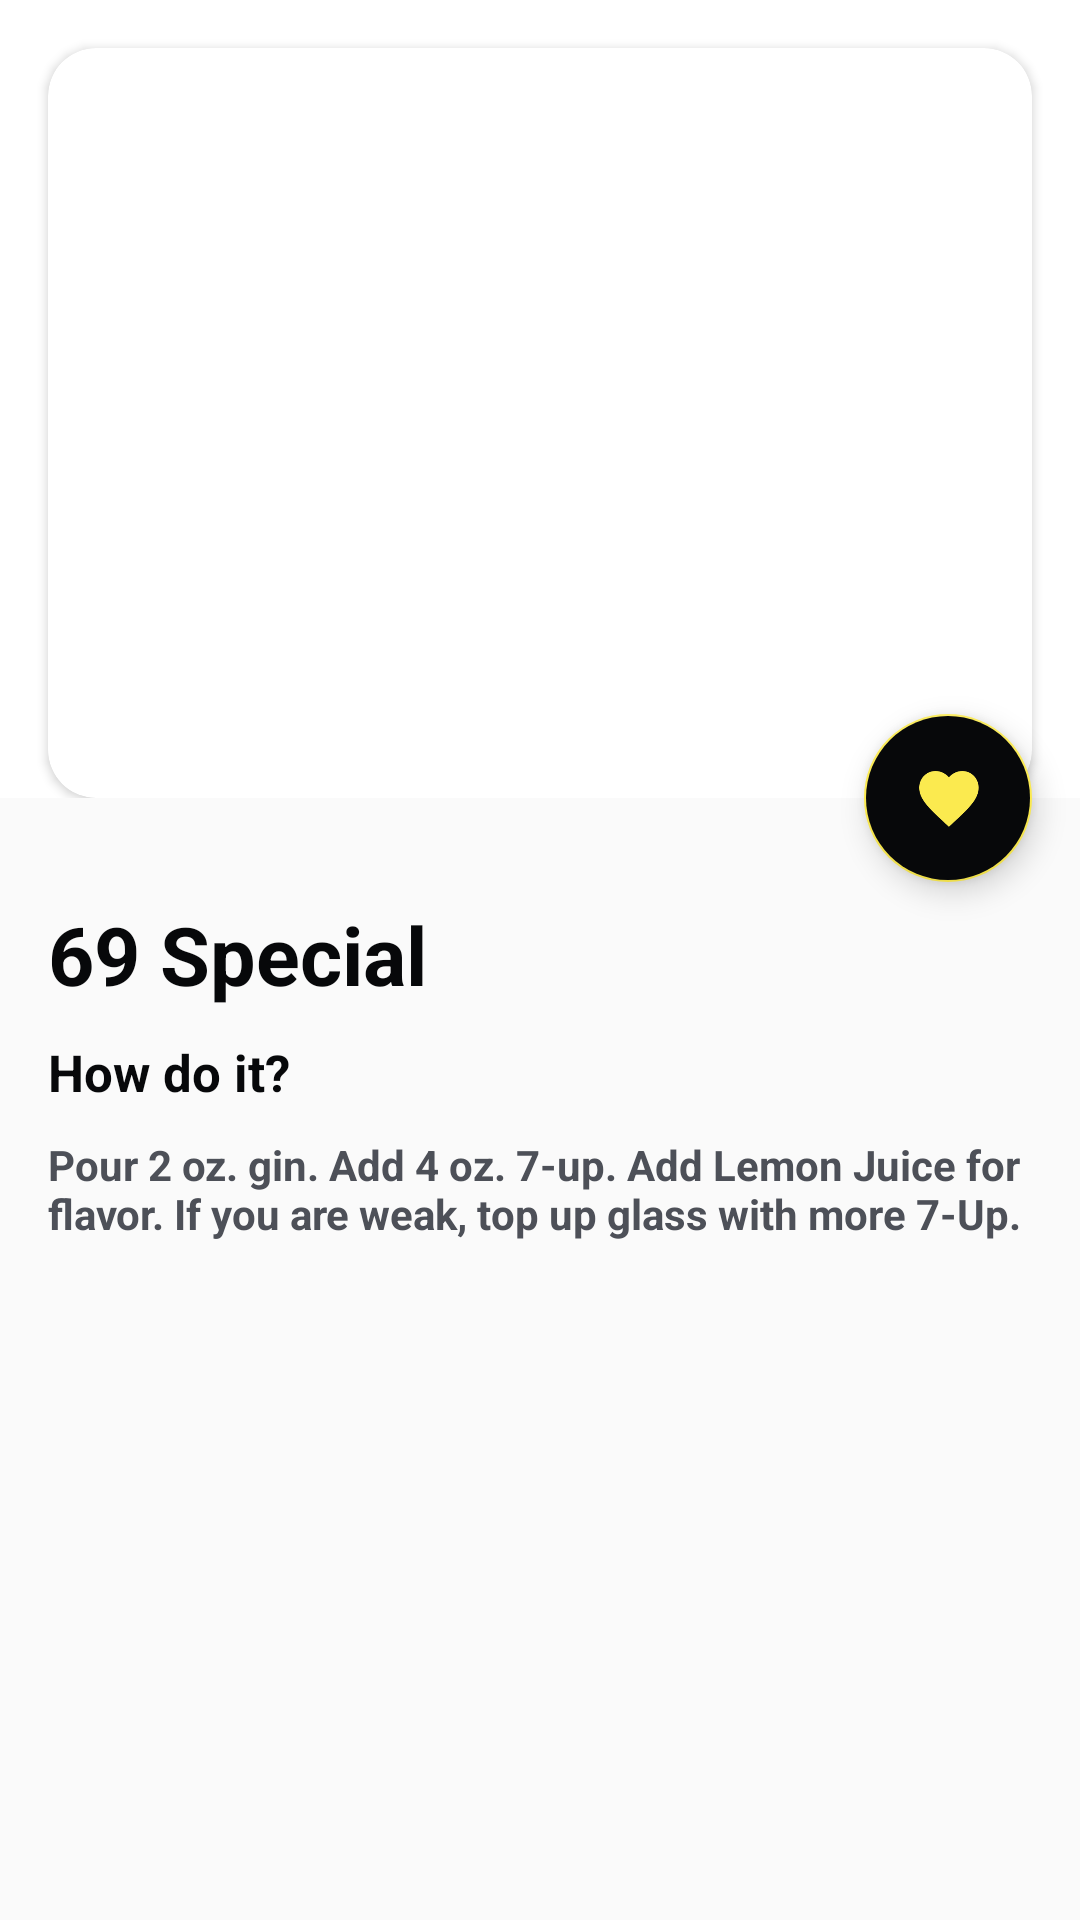

Point at icon controls on the screen. Image size 1080w x 1920h, points as [x,y].
fav: [948,798]
